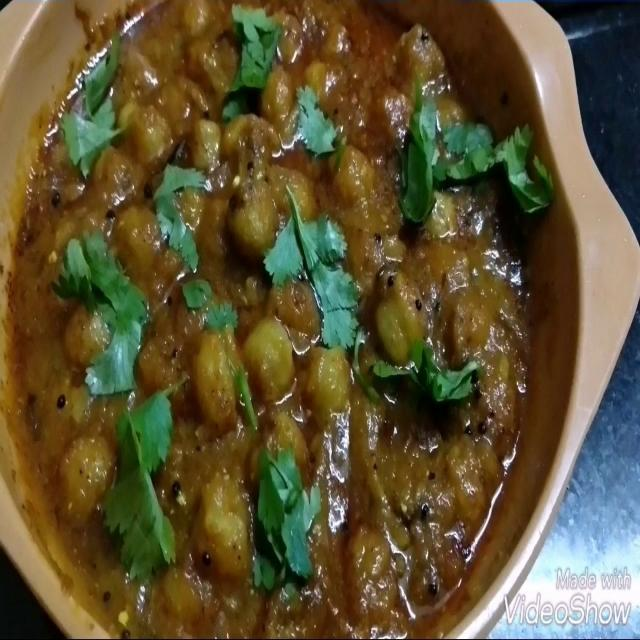Chole: (18, 0, 530, 638)
